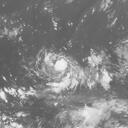cyclone: (34, 51, 87, 95)
